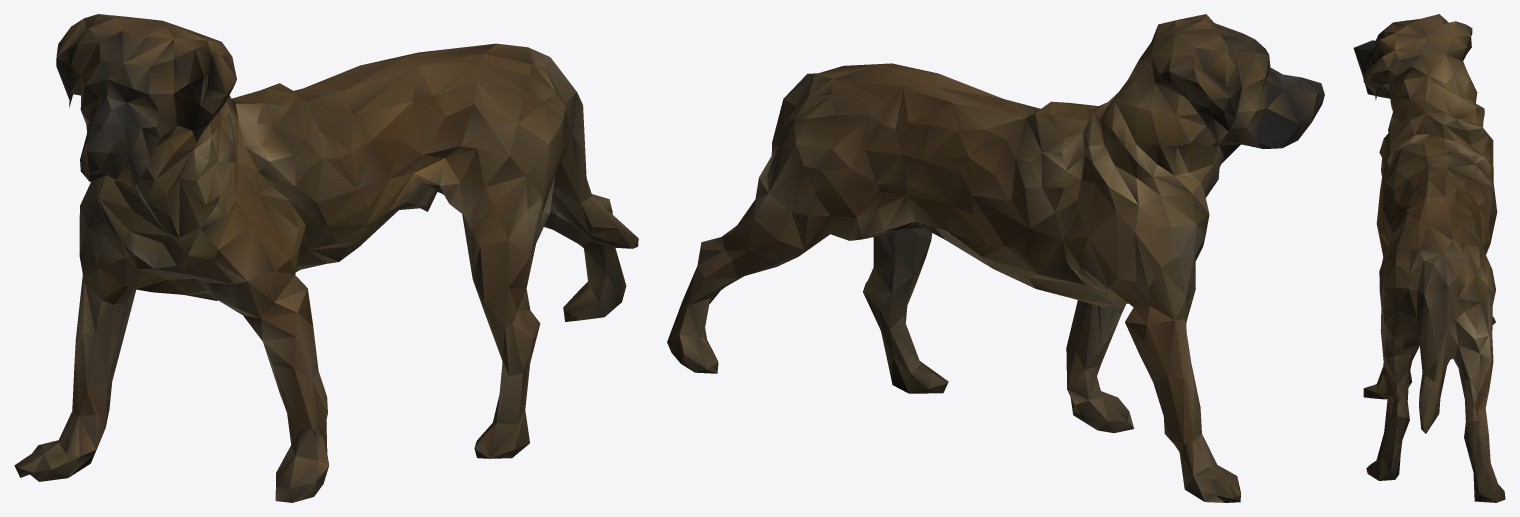
The model's file is dog_walk_b.glb.
3 views of the same model, side by side, from view 1: azimuth 30°, elevation 25°; view 2: azimuth 150°, elevation 25°; view 3: azimuth 270°, elevation 25° (orthographic). The views are drawn at different scales.
Parts seen in each view (by area): view 1: dog_walk_b; view 2: dog_walk_b; view 3: dog_walk_b.
Part boxes in pixels (x1=…): dog_walk_b: x1=14, y1=14, x2=638, y2=502; dog_walk_b: x1=667, y1=14, x2=1324, y2=502; dog_walk_b: x1=1353, y1=14, x2=1505, y2=502.
Size of the model in its own units: 3.43 by 2.57 by 1.05.
